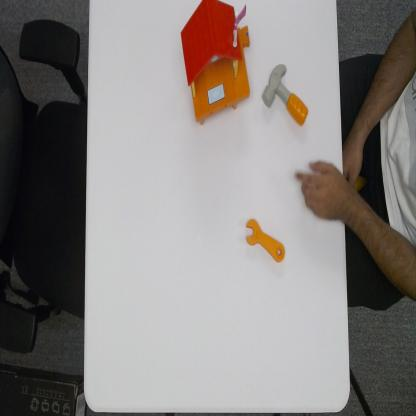Arm: (349, 182, 416, 303)
Hammer: (262, 63, 311, 127)
Hand: (292, 155, 348, 226)
House: (180, 0, 252, 127)
Screwdriver: (244, 217, 286, 267)
